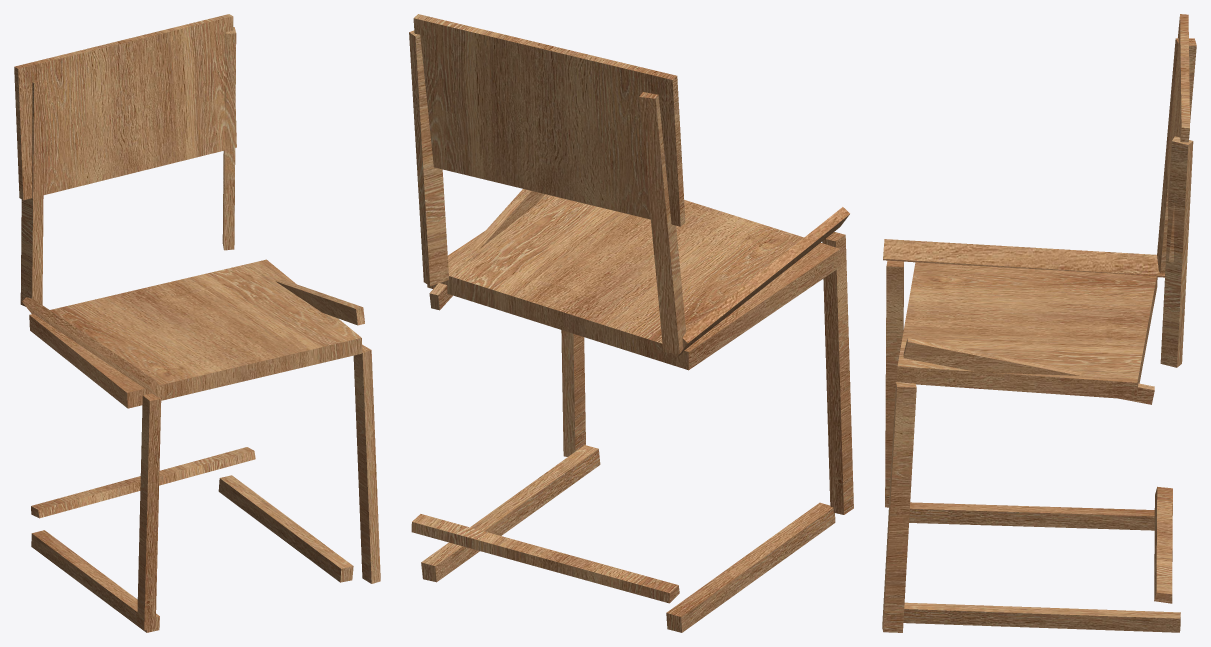
Rendered from 37464_ours.glb.
3 views of the same model, side by side, from view 1: azimuth 30°, elevation 25°; view 2: azimuth 150°, elevation 25°; view 3: azimuth 270°, elevation 25° (orthographic). The views are drawn at different scales.
Visible parts, largest first — view 1: ParentEmpty; view 2: ParentEmpty; view 3: ParentEmpty.
Boxes of the visible parts, x1=… form: ParentEmpty: x1=14, y1=14, x2=380, y2=632; ParentEmpty: x1=409, y1=14, x2=853, y2=632; ParentEmpty: x1=882, y1=14, x2=1196, y2=632.
Bounding box in the file's own units: 0.537 × 1 × 0.5615.
Materials: 1 (1 with a texture image).
